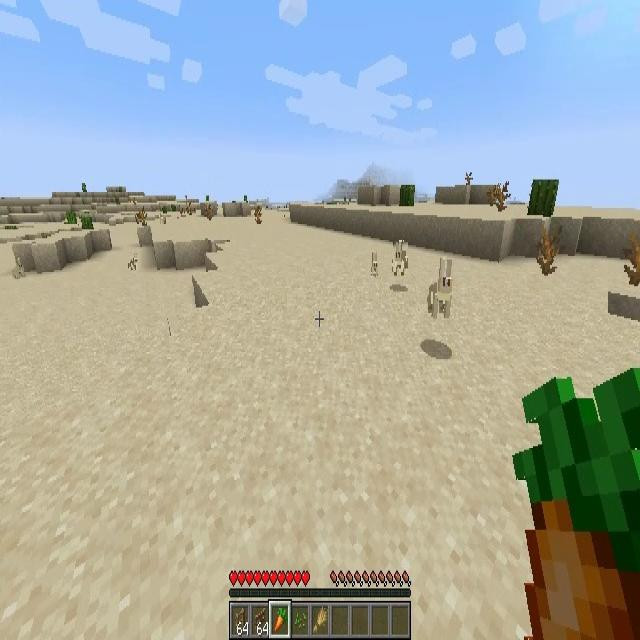rabbit: (428, 258, 454, 323), (393, 242, 408, 281), (13, 256, 25, 278), (370, 252, 380, 276), (128, 253, 138, 270)
